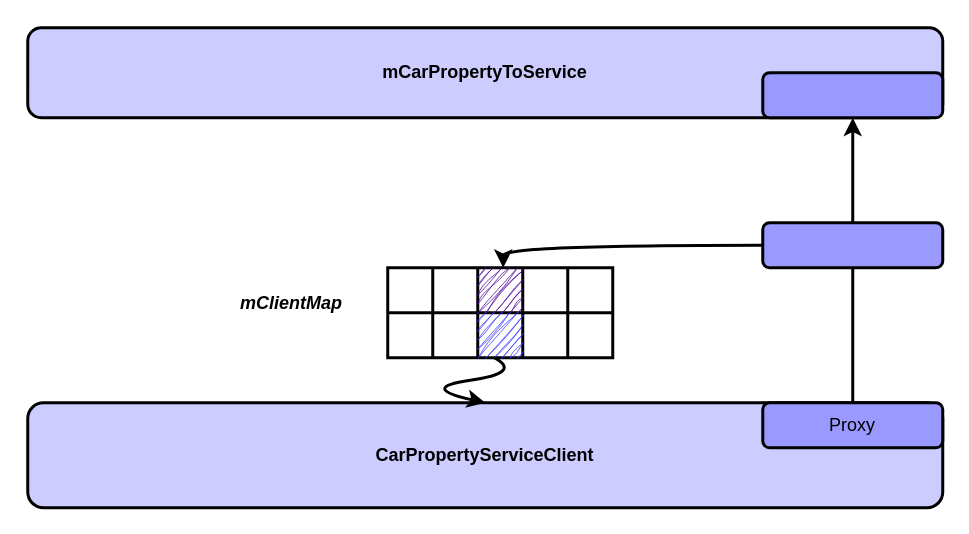
The diagram is 969 pixels wide and 534 high, and some of its shapes have lost their labels. Each missing label, with the box of its shape:
BinderProxy: (760, 220, 944, 268)
Stub: (760, 70, 944, 118)
